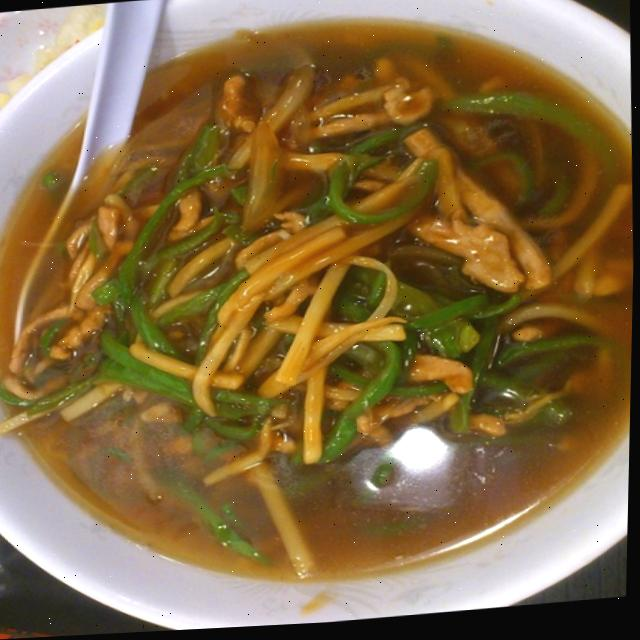面条主食: (2, 11, 631, 610)
